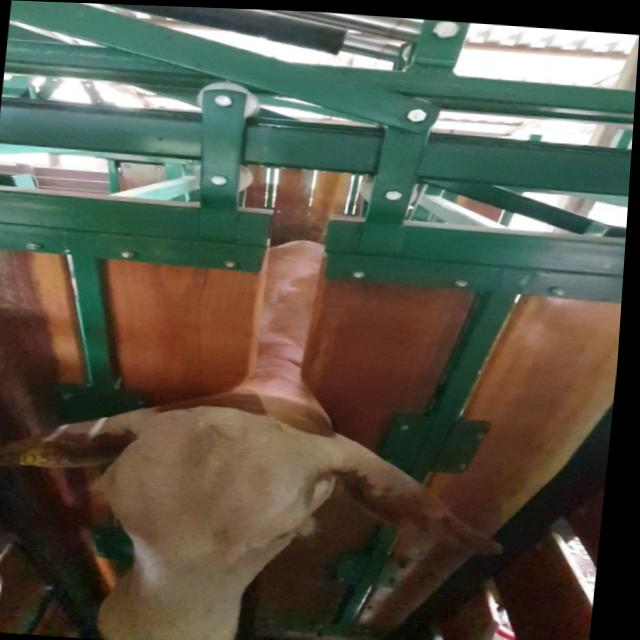cowFace: (92, 398, 323, 640)
